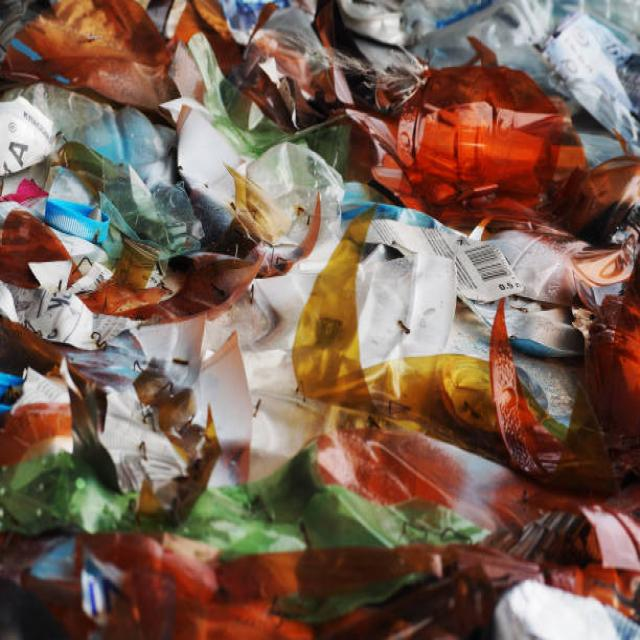plastic: (73, 145, 532, 574)
